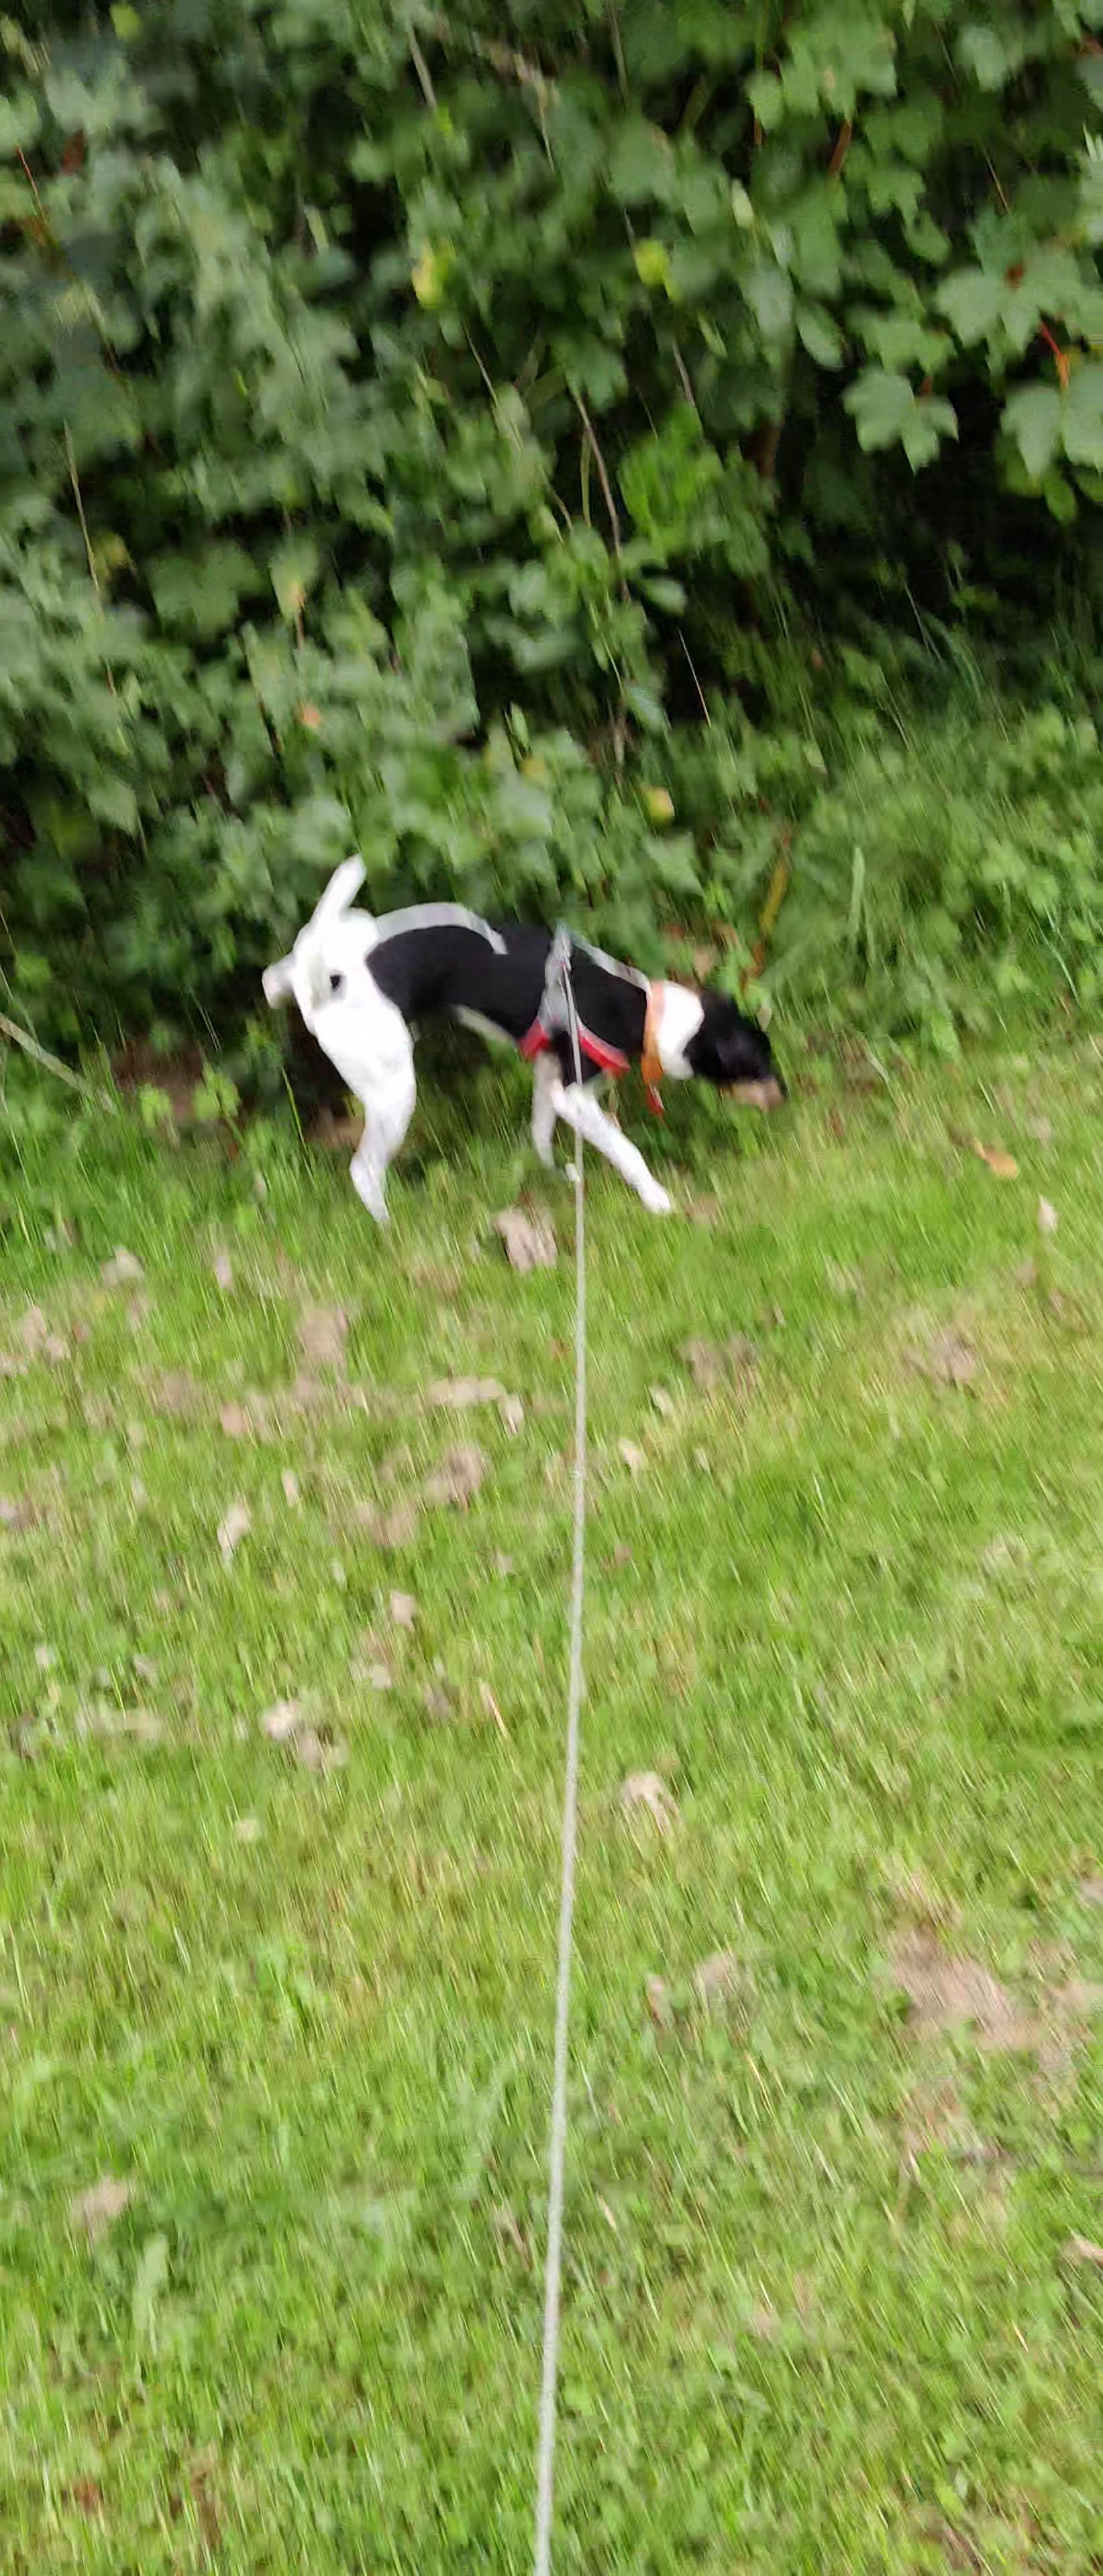Dog: (250, 848, 786, 1237)
